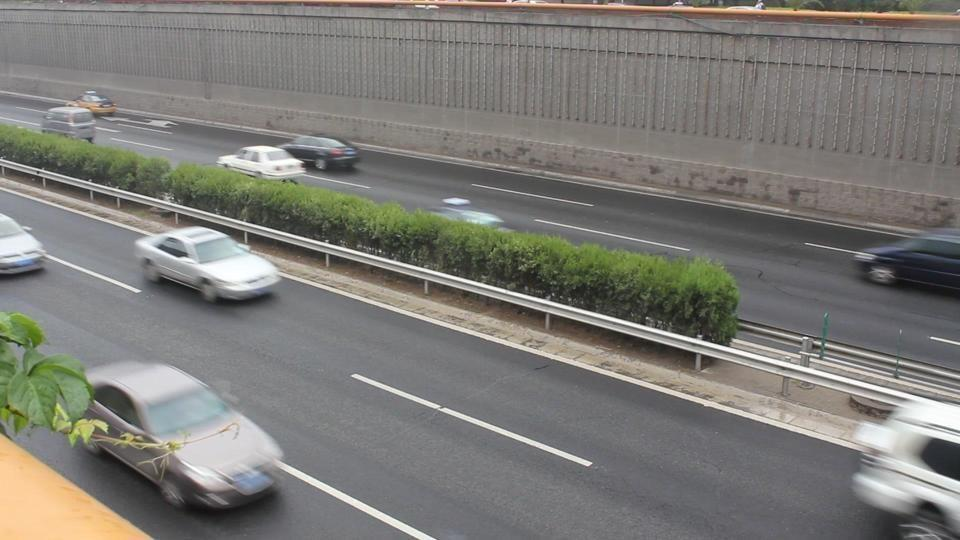car: (73, 358, 285, 512), (849, 401, 960, 538), (133, 225, 281, 304), (852, 229, 960, 293), (216, 145, 307, 181), (280, 135, 360, 173), (0, 213, 47, 277), (42, 105, 97, 143), (72, 89, 117, 117)
